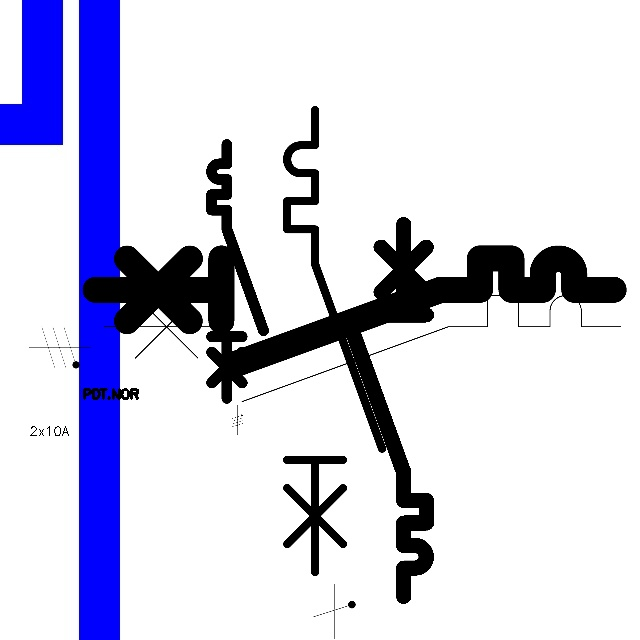interruptor_termomagnetico: (82, 245, 627, 378), (90, 282, 634, 415), (275, 98, 394, 584), (340, 215, 436, 606), (205, 138, 270, 405)
